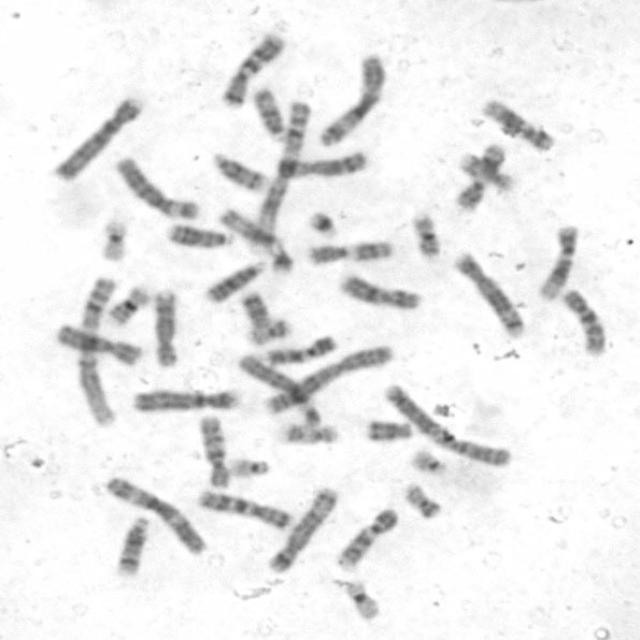A1: (247, 99, 312, 255), (76, 275, 120, 430)
A2: (381, 382, 516, 470), (262, 344, 396, 418)
A3: (103, 475, 211, 556), (318, 50, 390, 150)
B4: (52, 94, 144, 184), (132, 387, 240, 412)
B5: (451, 252, 528, 342), (267, 484, 339, 574)
C10: (560, 288, 608, 360), (199, 414, 232, 490)
C11: (452, 142, 507, 212), (306, 240, 394, 268)
C12: (481, 98, 557, 156), (537, 223, 581, 300)
C6: (235, 354, 324, 428), (115, 154, 201, 220)
C7: (218, 32, 290, 111), (196, 488, 296, 532)
C8: (275, 150, 368, 178), (153, 287, 180, 369)
C9: (338, 507, 400, 570), (261, 335, 340, 365)
D13: (203, 259, 268, 306), (163, 223, 234, 250)
D14: (212, 150, 269, 192), (115, 514, 151, 576)
D15: (218, 206, 285, 252), (252, 87, 288, 145)
E16: (105, 284, 153, 326), (409, 212, 444, 260)
E17: (456, 150, 517, 194), (275, 422, 341, 445)
E18: (240, 292, 272, 329), (365, 419, 415, 441)
F19: (345, 580, 382, 621), (101, 218, 129, 263)
F20: (401, 482, 442, 520), (247, 318, 295, 348)
G21: (303, 210, 342, 238), (269, 243, 296, 277)
G22: (227, 455, 271, 482), (411, 448, 451, 477)
X: (55, 322, 143, 369), (339, 272, 424, 312)
